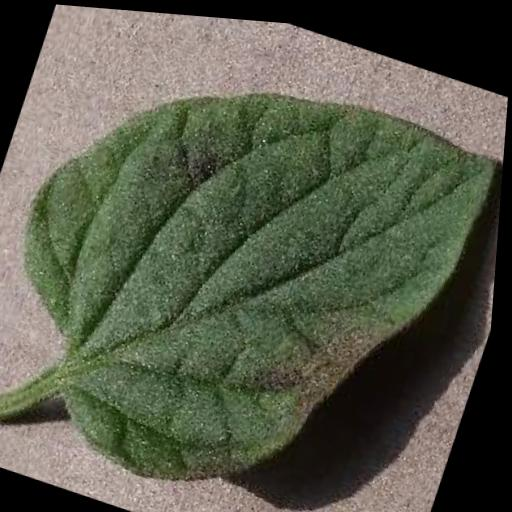Late Blight: (0, 1, 511, 512)
